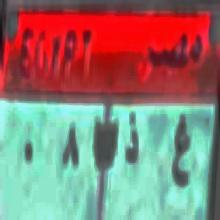0: (18, 128, 40, 178)
8: (58, 119, 84, 174)
ghayn: (167, 108, 191, 191)
zaal: (121, 110, 142, 176)
